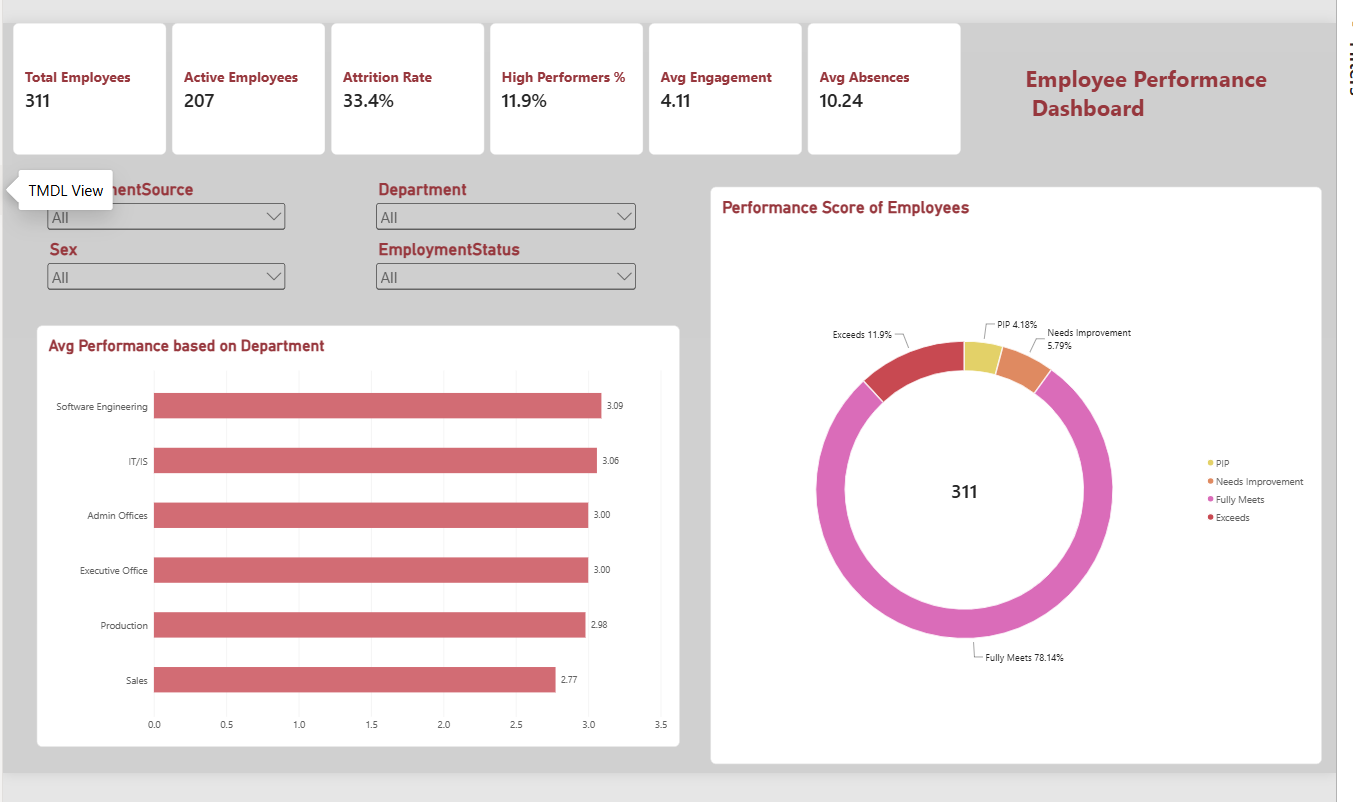

This screenshot's page, from the dashboard's own definition file:
{"tool":"powerbi","page":{"name":"Executive overview","canvas":[1920,1080],"ordinal":0},"visuals":[{"type":"textbox","box":[1473.8,57.6,425.6,109.9],"z":0},{"type":"cardVisual","fields":{"Data":["HR.Total Employees","HR.Active Employees","HR.Attrition Rate","HR.High Performers %","HR.Avg Engagement","HR.Avg Absences"]},"box":[14,0,1370.9,190.1],"z":1000},{"type":"slicer","fields":{"Values":["HR.Department"]},"box":[533.7,225,383.7,109.9],"z":2000},{"type":"slicer","fields":{"Values":["HR.EmploymentStatus"]},"box":[533.7,312.2,383.7,102.9],"z":3000},{"type":"slicer","fields":{"Values":["HR.Sex"]},"box":[59.3,312.2,352.3,104.7],"z":4000},{"type":"slicer","fields":{"Values":["HR.RecruitmentSource"]},"box":[59.3,225,352.3,94.2],"z":5000},{"type":"donutChart","title":" Performance Score of Employees","fields":{"Category":["HR.PerformanceScore"],"Y":["HR.Total Employees"]},"box":[1018.6,235.5,880.8,832],"z":6000},{"type":"clusteredBarChart","title":"Avg Performance  based on Department","fields":{"Category":["HR.Department"],"Y":["HR.Avg Performance Score"]},"box":[48.8,436,926.2,607],"z":7000}]}

Visuals, with their boxes on the page's 1920x1080 design canvas (x1, y1, x2, y2). These are canvas units, not pixel positions in the 1353x802 screenshot, which may show the page scaled, cropped or inside an application window:
textbox: (left=1474, top=58, right=1899, bottom=168)
cardVisual - HR.Total Employees x HR.Active Employees: (left=14, top=0, right=1385, bottom=190)
slicer - HR.Department: (left=534, top=225, right=917, bottom=335)
slicer - HR.EmploymentStatus: (left=534, top=312, right=917, bottom=415)
slicer - HR.Sex: (left=59, top=312, right=412, bottom=417)
slicer - HR.RecruitmentSource: (left=59, top=225, right=412, bottom=319)
" Performance Score of Employees" donutChart: (left=1019, top=236, right=1899, bottom=1068)
"Avg Performance  based on Department" clusteredBarChart: (left=49, top=436, right=975, bottom=1043)
